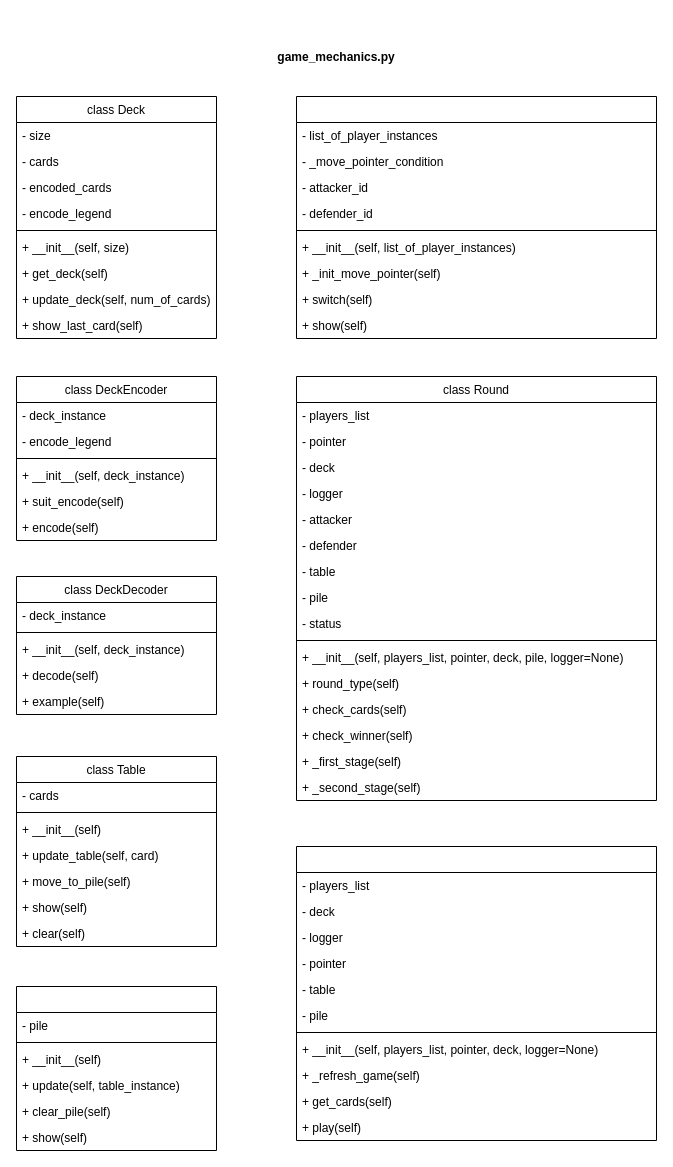
This 673x1167 diagram has some shape labels left out. The box of each missing label's shape, as (x1, y1, x2, y2) in pixels:
class GameProcess: (296, 846, 656, 1140)
class Pile: (16, 986, 216, 1150)
class Pointer: (296, 96, 656, 338)
